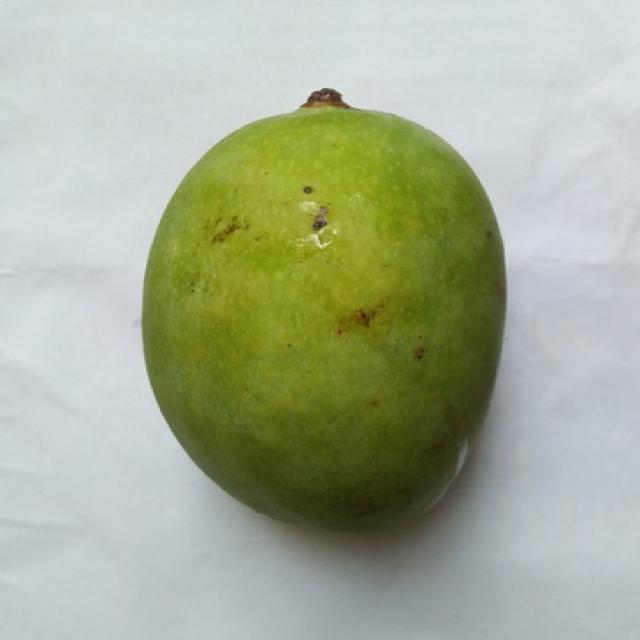Mango: (142, 102, 505, 530)
